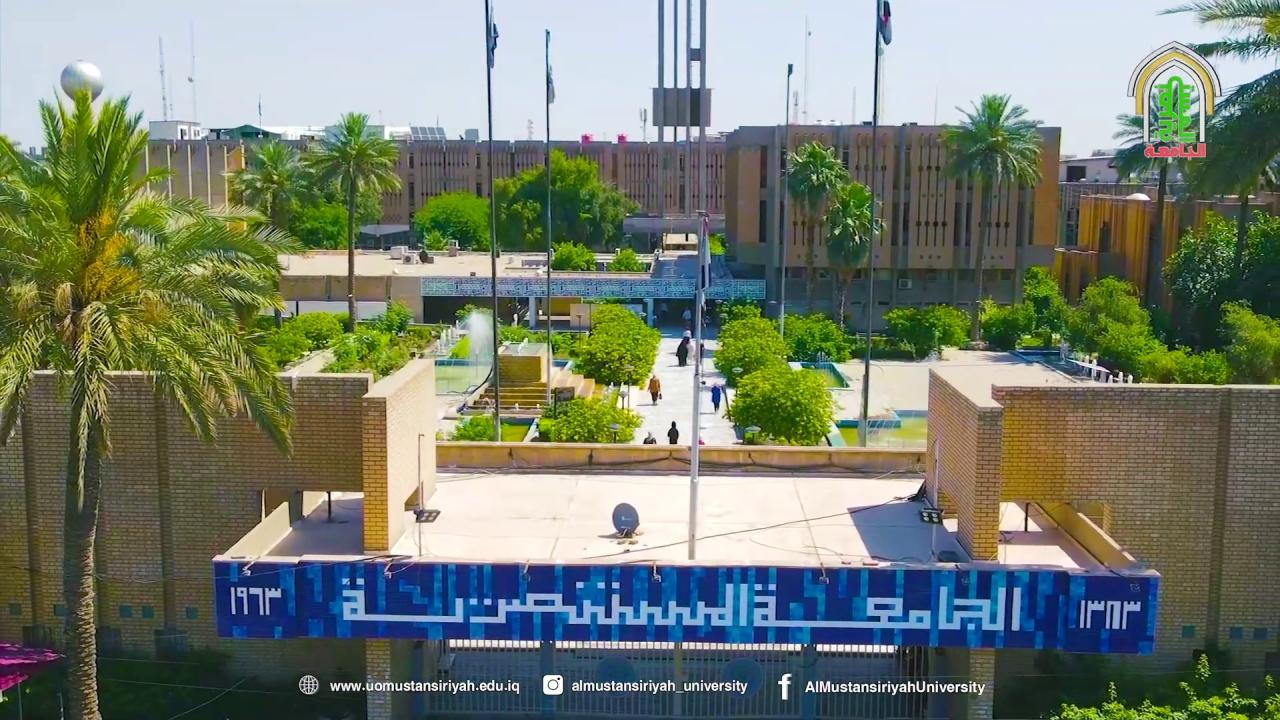car: (0, 642, 66, 694)
fountain: (831, 391, 970, 456), (431, 304, 498, 412), (457, 305, 495, 359)
person: (647, 374, 660, 404), (676, 337, 689, 366), (711, 383, 721, 412), (666, 420, 678, 444), (1058, 336, 1068, 362), (643, 431, 656, 444)
tree: (0, 83, 307, 718), (490, 146, 640, 403), (935, 91, 1045, 344), (1178, 68, 1279, 303), (298, 110, 402, 333), (219, 137, 314, 325), (1159, 206, 1279, 351), (491, 147, 640, 258), (781, 139, 849, 311), (711, 313, 792, 441), (724, 358, 839, 445), (569, 303, 661, 410), (820, 180, 884, 330), (1155, 0, 1279, 71), (1066, 274, 1154, 374), (1216, 298, 1278, 384), (882, 302, 972, 361), (537, 393, 643, 443), (410, 189, 490, 252), (782, 311, 852, 364), (976, 297, 1036, 349), (1020, 264, 1064, 333), (508, 198, 544, 252), (549, 240, 596, 271), (608, 247, 645, 272)
